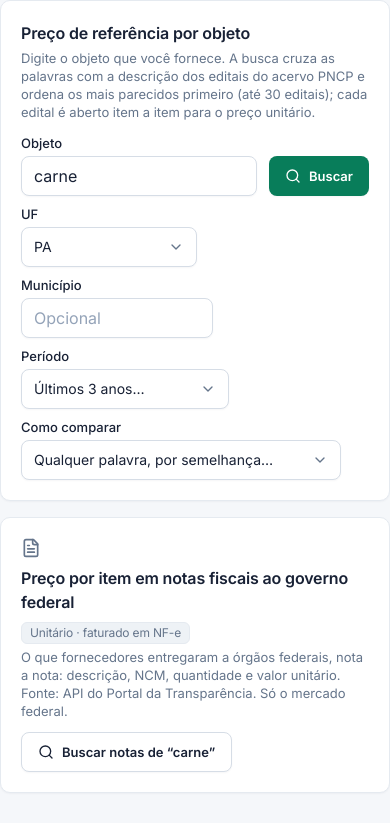
Test case: PrecoDeReferencia — a fonte única do preço por objeto › com menos de 8 caracteres não consulta e explica
Click the button "Buscar".
click(319, 176)  # box [269,156,369,196]
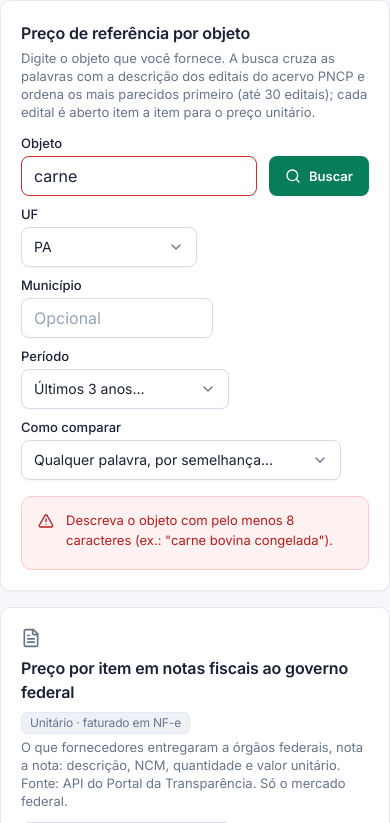
Expected: the text "pelo menos 8 caracteres" is shown, [66,512,333,548]
